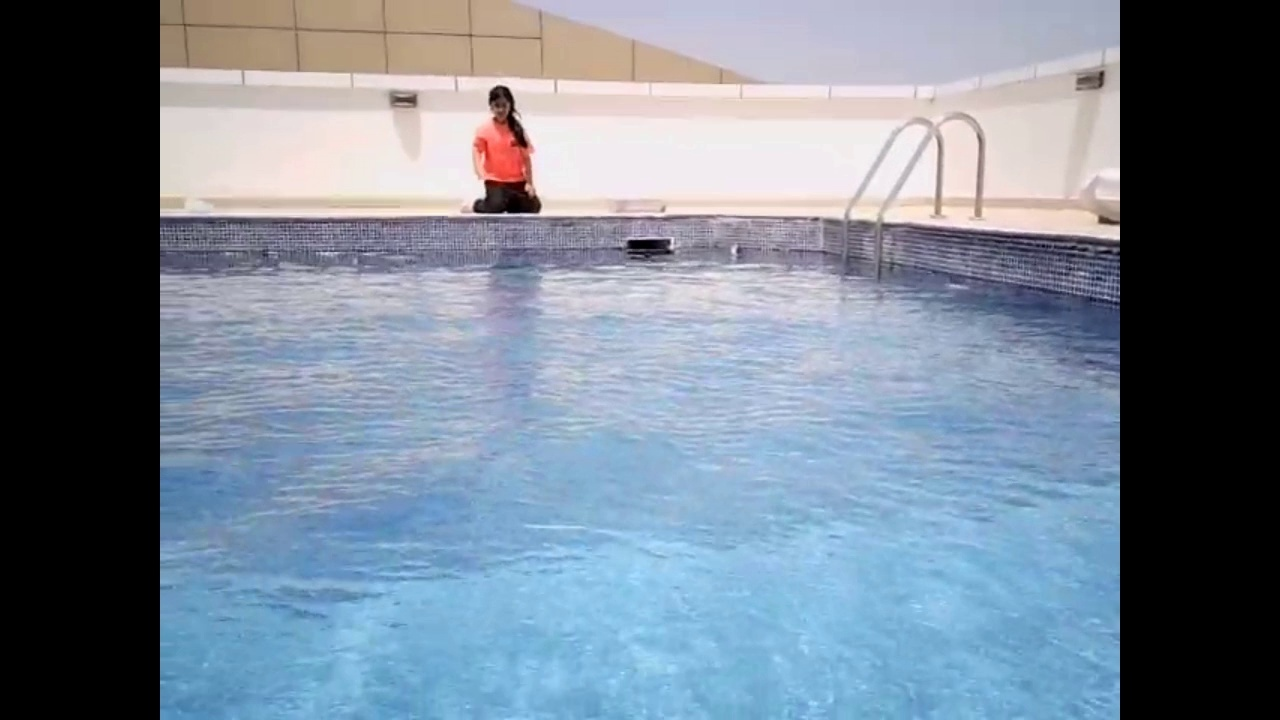debris: (726, 242, 747, 260), (665, 241, 686, 253)
